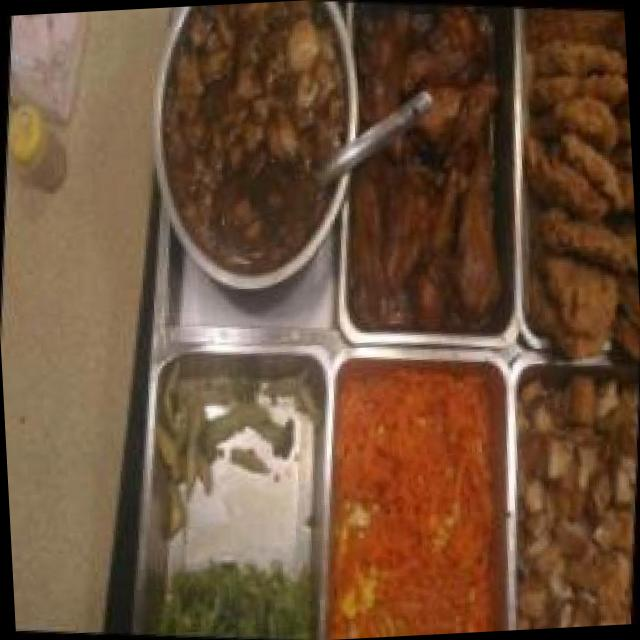carrot_eggs: (310, 355, 514, 640)
water_spinach: (160, 558, 314, 640)
